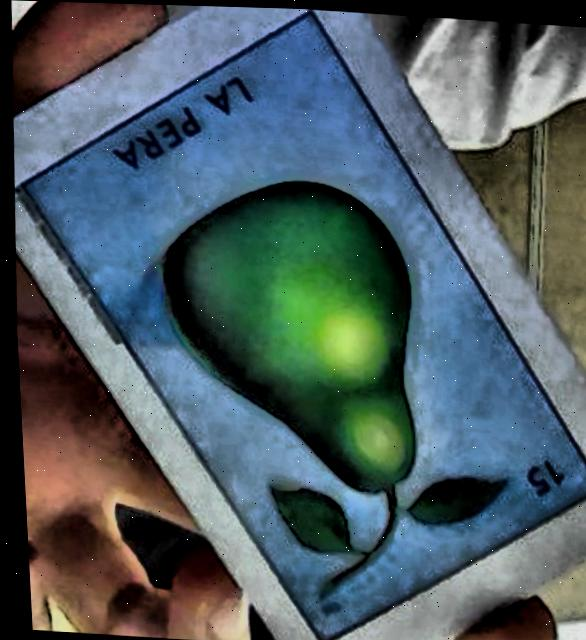La Pera: (20, 12, 586, 640)
